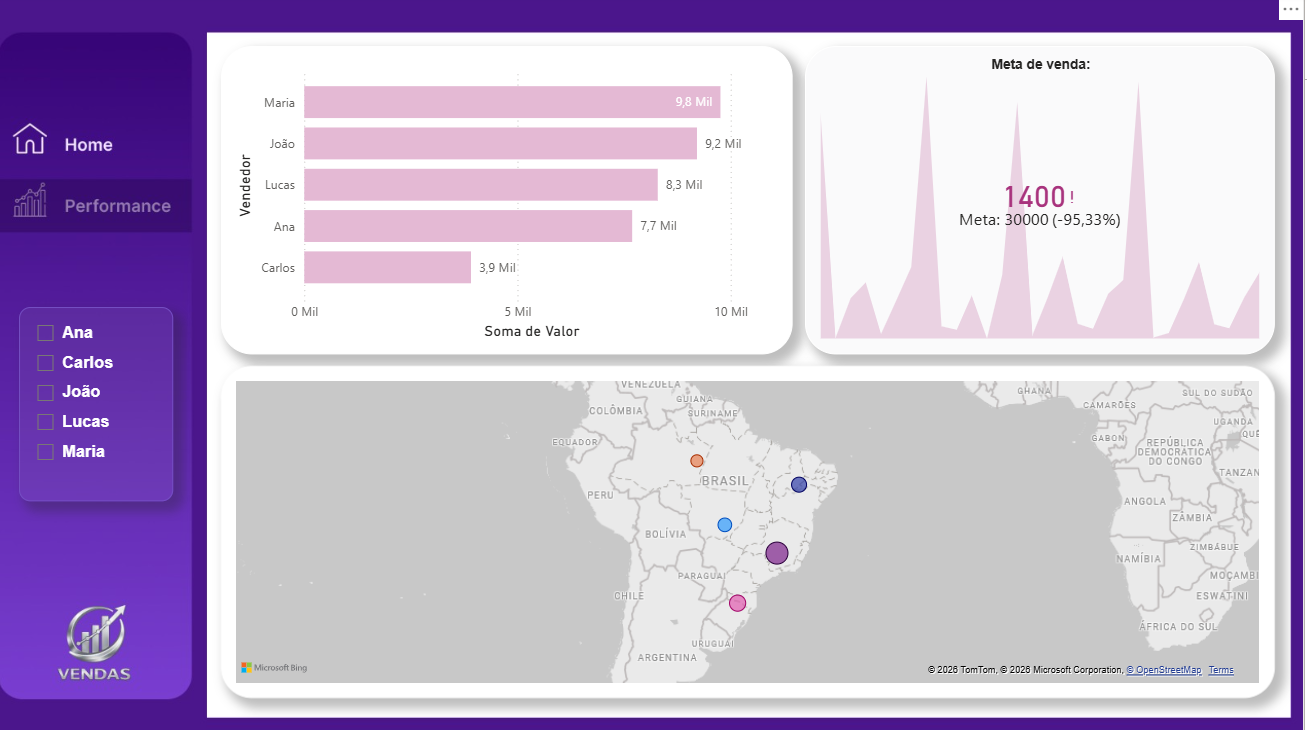

Layout of this report page (visuals, bound fields, positions):
{"tool":"powerbi","page":{"name":"Performance","canvas":[1280,720],"ordinal":1},"visuals":[{"type":"image","box":[10.1,0,1269.9,719.5],"z":0},{"type":"barChart","fields":{"Category":["Planilha1.Vendedor"],"Y":["Sum(Planilha1.Valor)"]},"box":[226.7,48.5,556,300],"z":1000},{"type":"kpi","title":"Meta de venda:","fields":{"Goal":["Planilha1.Minha Meta"],"Indicator":["Planilha1.Maior Venda"],"TrendLine":["Planilha1.Data"]},"box":[794.7,48.6,457.1,299.6],"z":2000},{"type":"columnChart","fields":{"Category":["Planilha1.Localizacao_Mapa"],"Y":["CountNonNull(Planilha1.Valor)"]},"box":[226.6,359.9,1025.2,322.9],"z":3000},{"type":"slicer","fields":{"Values":["Planilha1.Vendedor"]},"box":[30.2,302.5,149.8,188.7],"z":4000},{"type":"actionButton","box":[9.7,113.8,190.6,56.4],"z":5000}]}

Visuals, with their boxes on the page's 1280x720 design canvas (x1, y1, x2, y2). These are canvas units, not pixel positions in the 1307x730 screenshot, which may show the page scaled, cropped or inside an application window:
image: Rect(10, 0, 1280, 720)
barChart - Planilha1.Vendedor x Sum(Planilha1.Valor): Rect(227, 48, 783, 348)
"Meta de venda:" kpi: Rect(795, 49, 1252, 348)
columnChart - Planilha1.Localizacao_Mapa x CountNonNull(Planilha1.Valor): Rect(227, 360, 1252, 683)
slicer - Planilha1.Vendedor: Rect(30, 302, 180, 491)
actionButton: Rect(10, 114, 200, 170)
